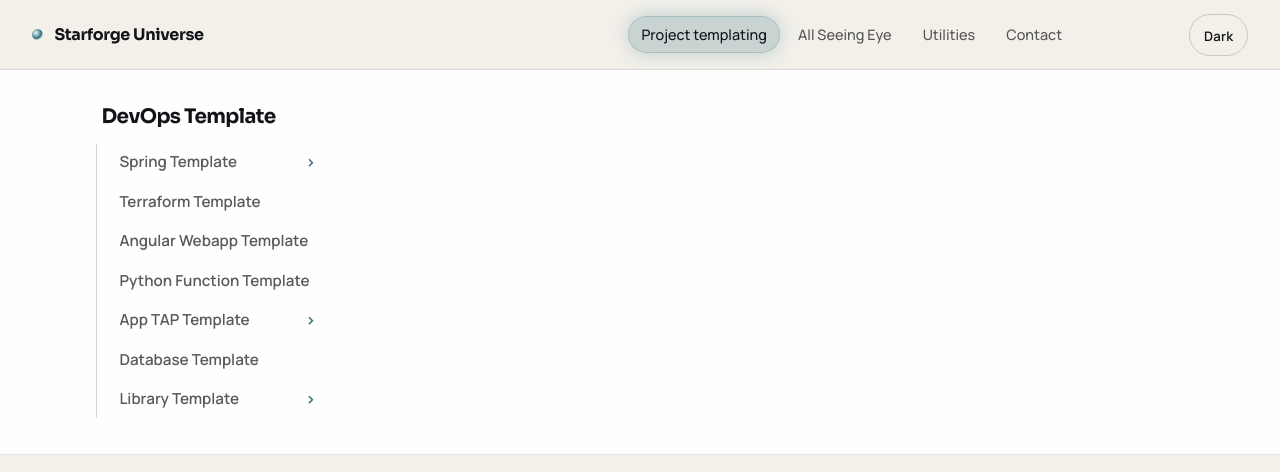
Test: SiteNavComponent › should show Spring nested templates in a right flyout on hover
Hover over the list item with class "has-nested" showing "Spring Template ›" at (218, 162), box x1=111 y1=144 x2=325 y2=181
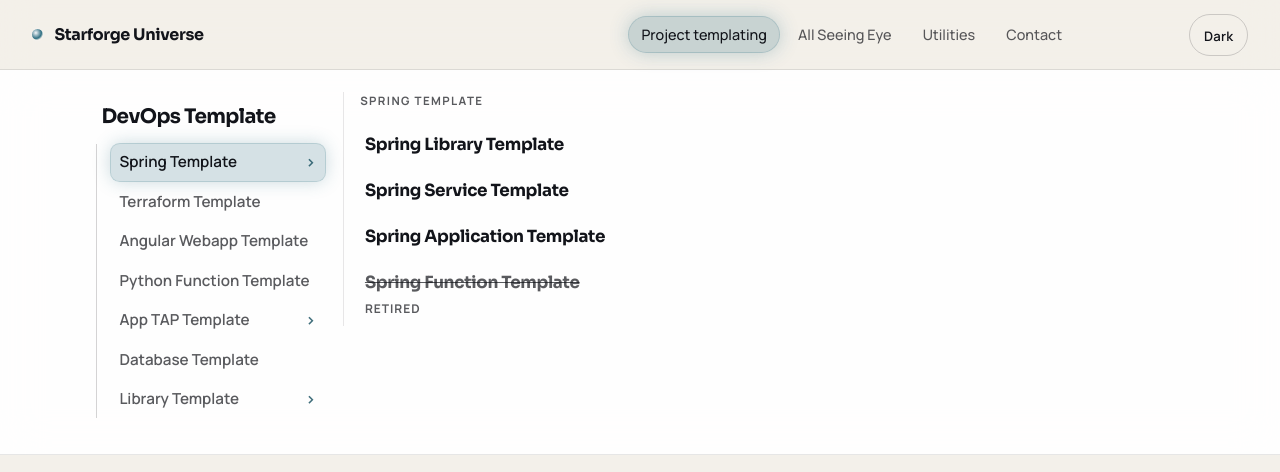
Check: the element with class "site-nav__mega-flyout" is shown, box x1=343 y1=92 x2=610 y2=326
Check: the text "Spring Library Template" is shown, box x1=365 y1=134 x2=564 y2=155
Check: the text "Spring Service Template" is shown, box x1=365 y1=180 x2=569 y2=201
